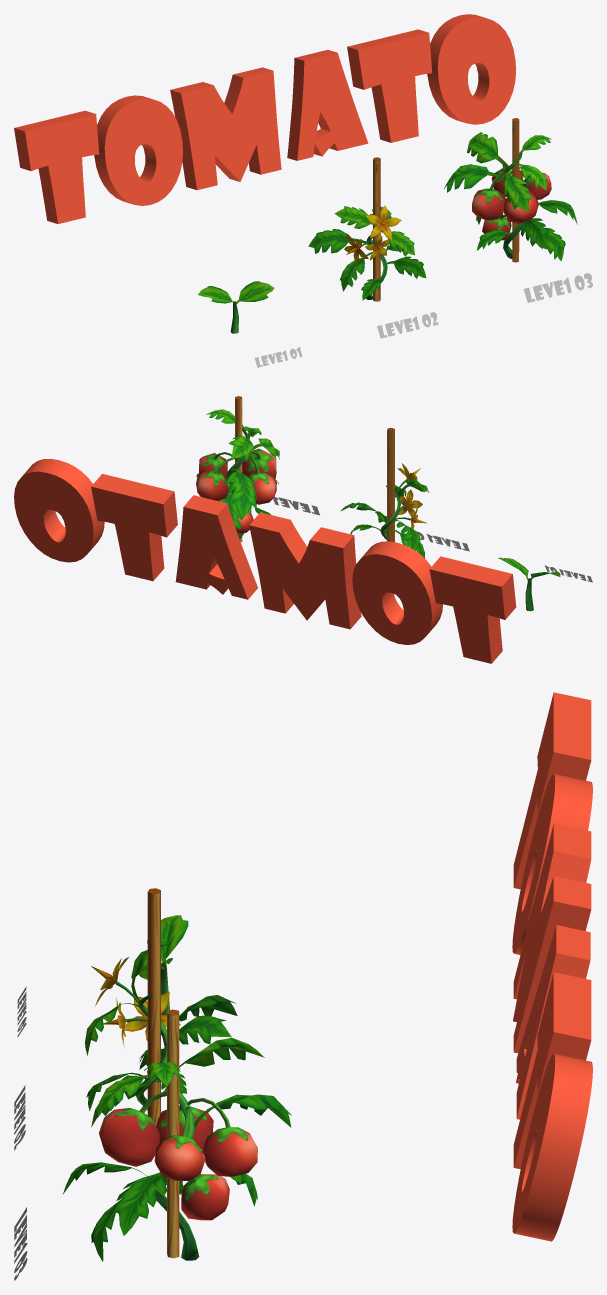
3 views of the same model, one above another, from view 1: azimuth 30°, elevation 25°; view 2: azimuth 150°, elevation 25°; view 3: azimuth 270°, elevation 25° (orthographic). The views are drawn at different scales.
Visible parts, largest first — view 1: Tex_Tomato, SM_Tomato_Lv3, SM_Tomato_Lv2, SM_Tomato_Lv1, Tex_Level03, Tex_Level02; view 2: Tex_Tomato, SM_Tomato_Lv3, SM_Tomato_Lv2, SM_Tomato_Lv1; view 3: Tex_Tomato, SM_Tomato_Lv3, SM_Tomato_Lv2, SM_Tomato_Lv1.
Boxes of the visible parts, x1,y1,x2,y2 form: Tex_Tomato: [14, 14, 515, 223]; SM_Tomato_Lv3: [444, 118, 577, 262]; SM_Tomato_Lv2: [308, 157, 426, 301]; SM_Tomato_Lv1: [198, 281, 274, 333]; Tex_Level03: [523, 273, 592, 302]; Tex_Level02: [377, 312, 438, 338]; Tex_Tomato: [14, 458, 516, 663]; SM_Tomato_Lv3: [196, 396, 279, 542]; SM_Tomato_Lv2: [340, 428, 429, 558]; SM_Tomato_Lv1: [498, 557, 560, 611]; Tex_Tomato: [512, 692, 592, 1241]; SM_Tomato_Lv3: [63, 1009, 291, 1261]; SM_Tomato_Lv2: [85, 888, 237, 1125]; SM_Tomato_Lv1: [138, 915, 188, 1014].
Bounding box in the file's own units: 1.71 × 0.4881 × 1.02.
3 materials, 1 textured.
